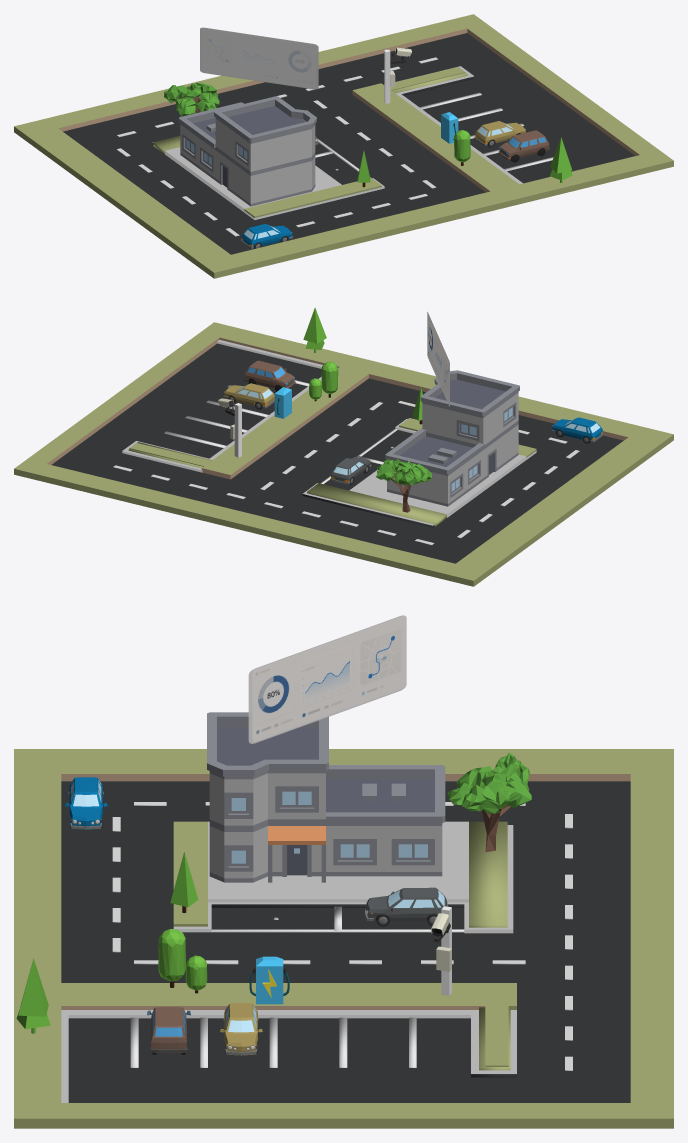
The model's file is papp-city.glb.
3 renders of one model, top to bottom at view 1: azimuth 30°, elevation 25°; view 2: azimuth 150°, elevation 25°; view 3: azimuth 270°, elevation 25°, orthographic. The views are drawn at different scales.
Parts seen in each view (by area): view 1: parking.002, parking.003, small_buildingE, PappInsights, parking.001, tree, trees, Car, Car.001, Vanbody, PappCamera, cahrger.001 (+1 smaller); view 2: parking.002, parking.003, small_buildingE, trees, tree, PappInsights, Car, Car.001, Car.002, Vanbody, PappCamera, roadlines4 (+2 smaller); view 3: parking.002, parking.003, small_buildingE, PappInsights, tree, trees, parking.001, Car.002, Car, Car.001, cahrger.001, Vanbody (+5 smaller).
Part boxes in pixels (left/top/right/bottom): parking.002: left=63, top=33, right=634, bottom=254; parking.003: left=14, top=14, right=673, bottom=278; small_buildingE: left=178, top=96, right=316, bottom=206; PappInsights: left=200, top=27, right=318, bottom=89; parking.001: left=243, top=178, right=384, bottom=219; tree: left=164, top=82, right=219, bottom=116; trees: left=454, top=130, right=572, bottom=182; Car: left=240, top=224, right=292, bottom=248; Car.001: left=474, top=121, right=525, bottom=147; Vanbody: left=499, top=130, right=549, bottom=159; PappCamera: left=384, top=47, right=411, bottom=103; cahrger.001: left=441, top=112, right=458, bottom=143; parking.002: left=52, top=340, right=623, bottom=563; parking.003: left=14, top=322, right=673, bottom=586; small_buildingE: left=385, top=370, right=519, bottom=506; trees: left=303, top=307, right=338, bottom=401; tree: left=376, top=459, right=431, bottom=512; PappInsights: left=427, top=312, right=449, bottom=406; Car: left=551, top=417, right=603, bottom=443; Car.001: left=223, top=383, right=274, bottom=409; Car.002: left=330, top=457, right=371, bottom=484; Vanbody: left=245, top=360, right=294, bottom=387; PappCamera: left=218, top=398, right=241, bottom=457; roadlines4: left=113, top=465, right=434, bottom=544; parking.002: left=61, top=781, right=630, bottom=1102; parking.003: left=14, top=749, right=673, bottom=1128; small_buildingE: left=207, top=712, right=445, bottom=882; PappInsights: left=248, top=615, right=406, bottom=743; tree: left=447, top=752, right=531, bottom=852; trees: left=16, top=929, right=207, bottom=1033; parking.001: left=173, top=821, right=211, bottom=932; Car.002: left=365, top=887, right=447, bottom=926; Car: left=64, top=777, right=107, bottom=829; Car.001: left=220, top=1003, right=262, bottom=1055; cahrger.001: left=249, top=956, right=289, bottom=1004; Vanbody: left=147, top=1007, right=190, bottom=1052.
Bounding box in the file's own units: 5.46 × 1.58 × 4.12.
Materials: 39 (2 with a texture image).
